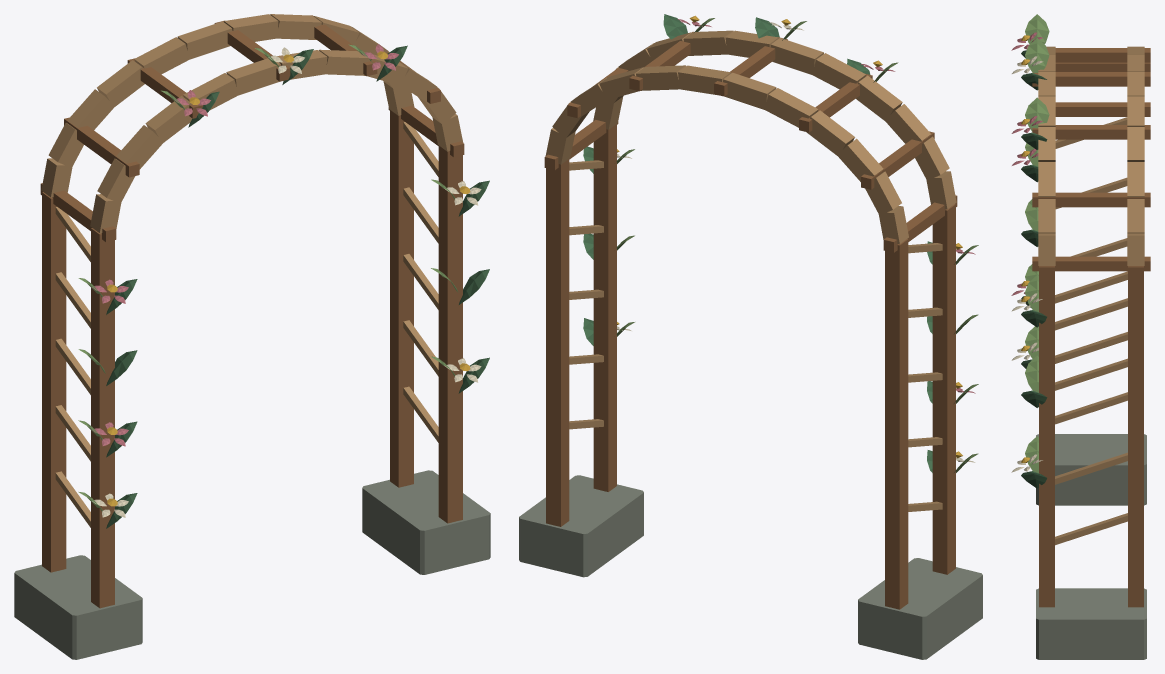
File: decor_flower_arch.glb
The picture shows the model from 3 angles, left to right: view 1: azimuth 30°, elevation 25°; view 2: azimuth 150°, elevation 25°; view 3: azimuth 270°, elevation 25°; orthographic projection. The views are drawn at different scales.
Visible parts, largest first — view 1: geometry; view 2: geometry; view 3: geometry.
Boxes of the visible parts, left/top/right/bottom form: geometry: left=14, top=14, right=490, bottom=659; geometry: left=519, top=14, right=982, bottom=659; geometry: left=1011, top=14, right=1150, bottom=659.
Bounding box in the file's own units: 1.78 × 2.31 × 0.5652.
